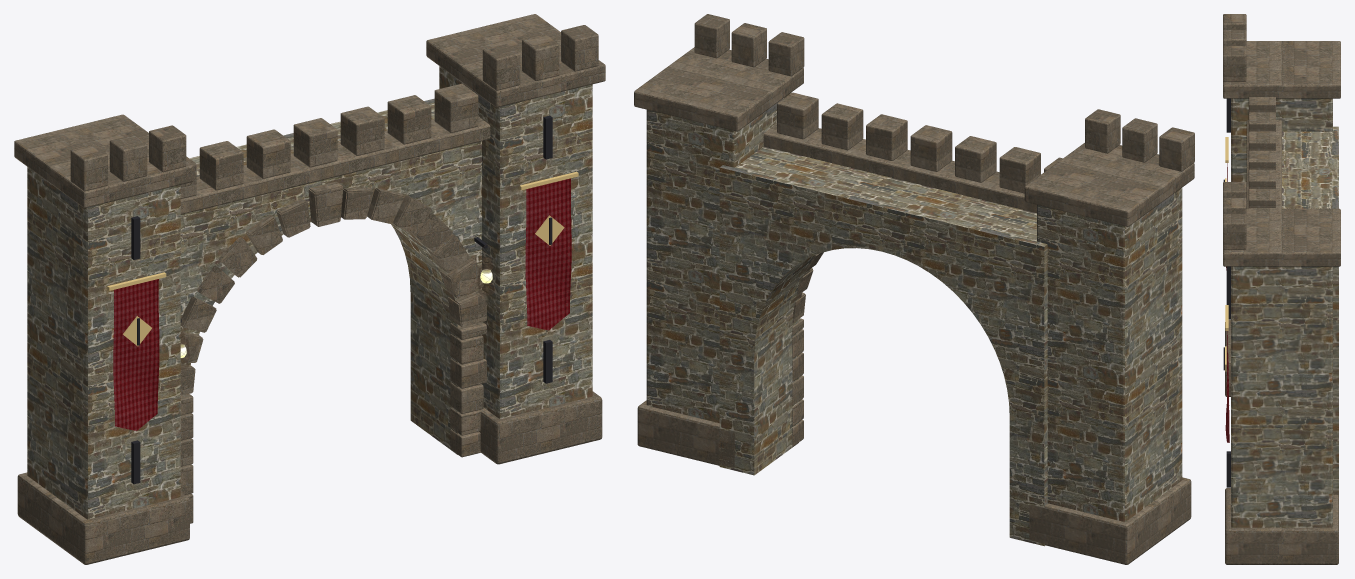
Rendered from fachada_02_512.glb.
The picture shows the model from 3 angles, left to right: view 1: azimuth 30°, elevation 25°; view 2: azimuth 150°, elevation 25°; view 3: azimuth 270°, elevation 25°; orthographic projection. The views are drawn at different scales.
Parts seen in each view (by area): view 1: F02_torre-1, F02_torre1, F02_muralha, F02_base-1, F02_coroa-1, F02_coroa1, F02_cornija, F02_estandarte1, F02_estandarte-1, F02_base1, F02_ameia_5, F02_ameia_6 (+26 smaller); view 2: F02_muralha, F02_torre-1, F02_torre1, F02_coroa-1, F02_coroa1, F02_base-1, F02_cornija, F02_base1, F02_ameia_5, F02_ameia_3, F02_ameia_2, F02_ameia_4 (+8 smaller); view 3: F02_torre1, F02_coroa1, F02_coroa-1, F02_muralha, F02_base1, F02_torre-1, F02_tameia1_2, F02_tameia-1_2, F02_cornija, F02_ameia_1, F02_ameia_2, F02_ameia_3 (+12 smaller).
Part boxes in pixels (x1=…): F02_torre-1: x1=27, y1=167, x2=180, y2=519; F02_torre1: x1=439, y1=66, x2=592, y2=418; F02_muralha: x1=180, y1=98, x2=481, y2=454; F02_base-1: x1=17, y1=472, x2=189, y2=564; F02_coroa-1: x1=14, y1=114, x2=193, y2=207; F02_coroa1: x1=426, y1=14, x2=605, y2=107; F02_cornija: x1=180, y1=116, x2=490, y2=214; F02_estandarte1: x1=525, y1=178, x2=571, y2=330; F02_estandarte-1: x1=113, y1=279, x2=159, y2=430; F02_base1: x1=479, y1=391, x2=602, y2=464; F02_ameia_5: x1=387, y1=95, x2=431, y2=144; F02_ameia_6: x1=434, y1=83, x2=478, y2=132; F02_muralha: x1=719, y1=146, x2=1047, y2=546; F02_torre-1: x1=1037, y1=188, x2=1182, y2=521; F02_torre1: x1=646, y1=92, x2=791, y2=422; F02_coroa-1: x1=1024, y1=143, x2=1194, y2=226; F02_coroa1: x1=634, y1=47, x2=803, y2=131; F02_base-1: x1=1029, y1=477, x2=1191, y2=564; F02_cornija: x1=763, y1=124, x2=1036, y2=212; F02_base1: x1=637, y1=400, x2=734, y2=467; F02_ameia_5: x1=821, y1=103, x2=863, y2=150; F02_ameia_3: x1=910, y1=125, x2=952, y2=171; F02_ameia_2: x1=955, y1=136, x2=996, y2=182; F02_ameia_4: x1=866, y1=114, x2=907, y2=160; F02_torre1: x1=1231, y1=266, x2=1332, y2=527; F02_coroa1: x1=1223, y1=208, x2=1340, y2=266; F02_coroa-1: x1=1223, y1=41, x2=1340, y2=98; F02_muralha: x1=1282, y1=126, x2=1338, y2=495; F02_base1: x1=1225, y1=488, x2=1338, y2=564; F02_torre-1: x1=1231, y1=98, x2=1332, y2=182; F02_tameia1_2: x1=1223, y1=213, x2=1246, y2=249; F02_tameia-1_2: x1=1223, y1=46, x2=1246, y2=81; F02_cornija: x1=1246, y1=120, x2=1281, y2=208; F02_ameia_1: x1=1248, y1=112, x2=1275, y2=131; F02_ameia_2: x1=1248, y1=131, x2=1275, y2=150; F02_ameia_3: x1=1248, y1=150, x2=1275, y2=169.
Bounding box in the file's own units: 12.8 × 9.55 × 3.
7 materials, 4 textured.
